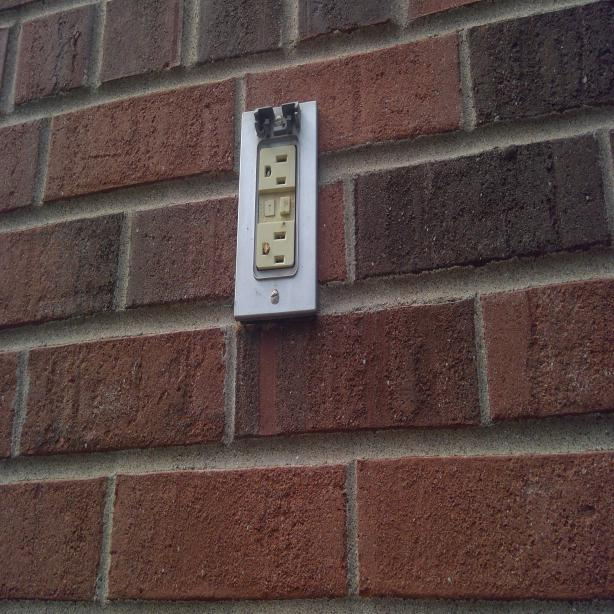typeb: (258, 223, 294, 267), (260, 146, 295, 190)
